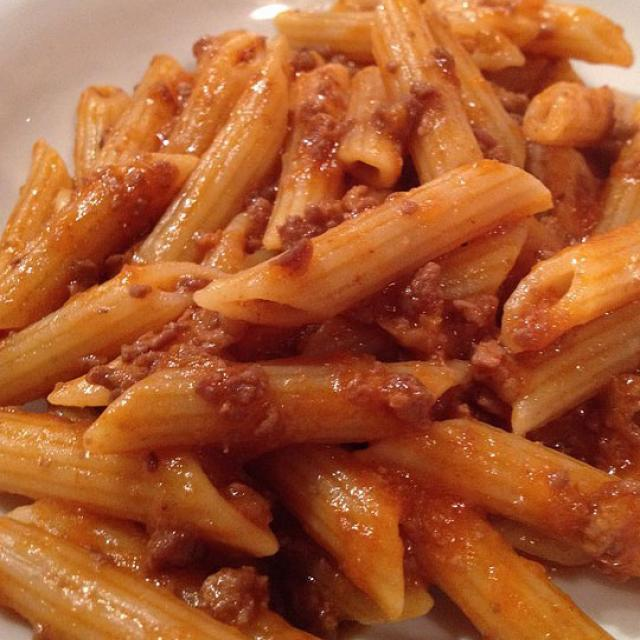Pasta al ragu: (6, 45, 636, 618)
